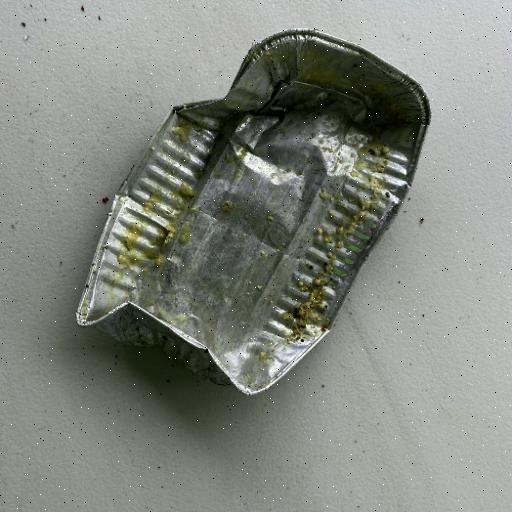Metal: (74, 26, 432, 396)
